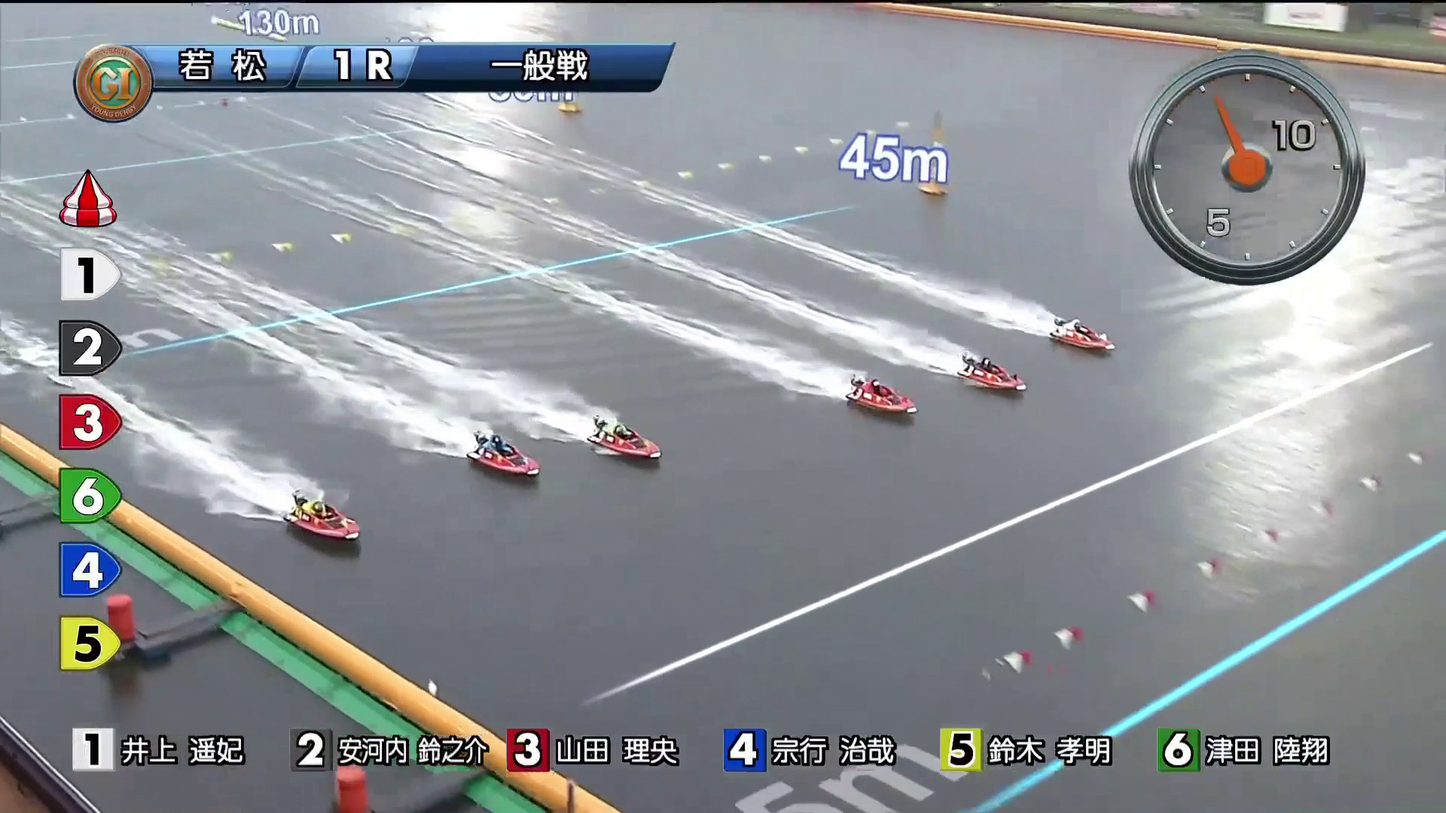１号艇: (1041, 306, 1103, 352)
２号艇: (959, 349, 1021, 387)
３号艇: (849, 372, 904, 413)
４号艇: (597, 417, 659, 460)
５号艇: (473, 445, 541, 483)
６号艇: (307, 515, 372, 562)
